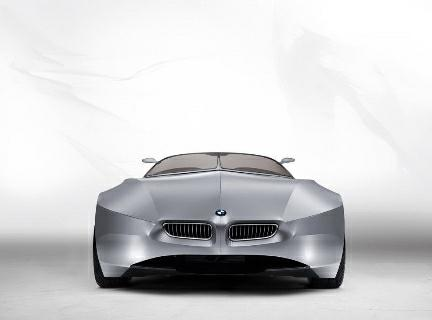宝马-GINA: (88, 147, 352, 295)
